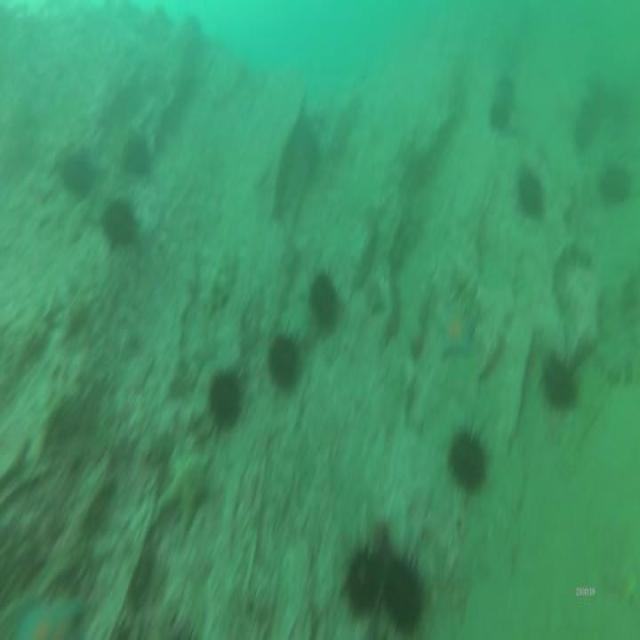echinus: (385, 561, 422, 627), (452, 431, 487, 493), (99, 198, 136, 250), (346, 550, 378, 610), (270, 335, 302, 392), (211, 369, 241, 426), (307, 275, 337, 324), (540, 359, 569, 409), (62, 153, 92, 199), (517, 169, 546, 213), (492, 72, 512, 130), (601, 163, 627, 207), (124, 132, 148, 178)
starfish: (162, 455, 218, 533), (18, 599, 80, 640), (441, 302, 472, 359)
